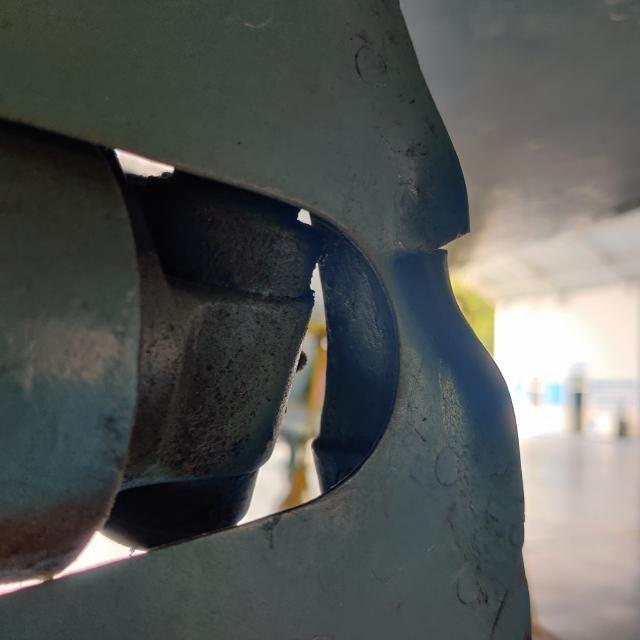Crack: (421, 231, 479, 270)
